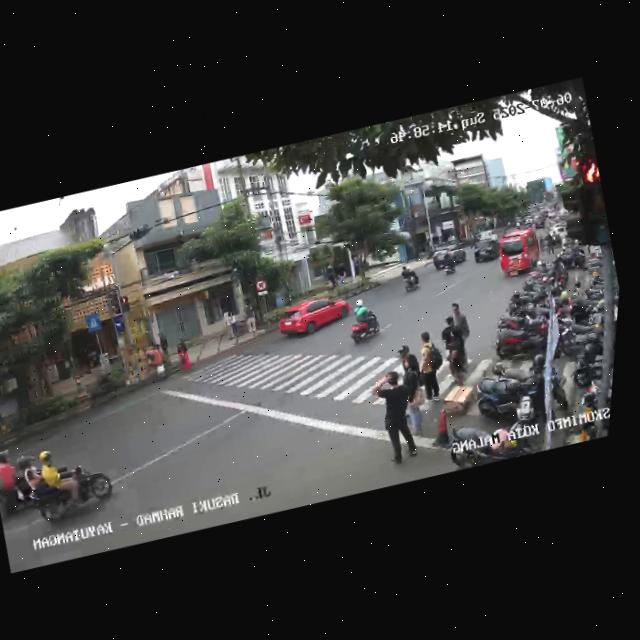car: (270, 288, 354, 346), (468, 362, 529, 423), (492, 226, 547, 280), (428, 241, 470, 272), (467, 233, 502, 265)
motorcycle: (1, 435, 121, 534), (342, 295, 385, 346), (396, 261, 423, 294), (438, 251, 459, 278)
person: (365, 366, 427, 465), (392, 352, 436, 437), (407, 329, 450, 406), (441, 299, 481, 376), (433, 314, 471, 387), (437, 322, 476, 389), (171, 335, 196, 374), (239, 299, 260, 333)
